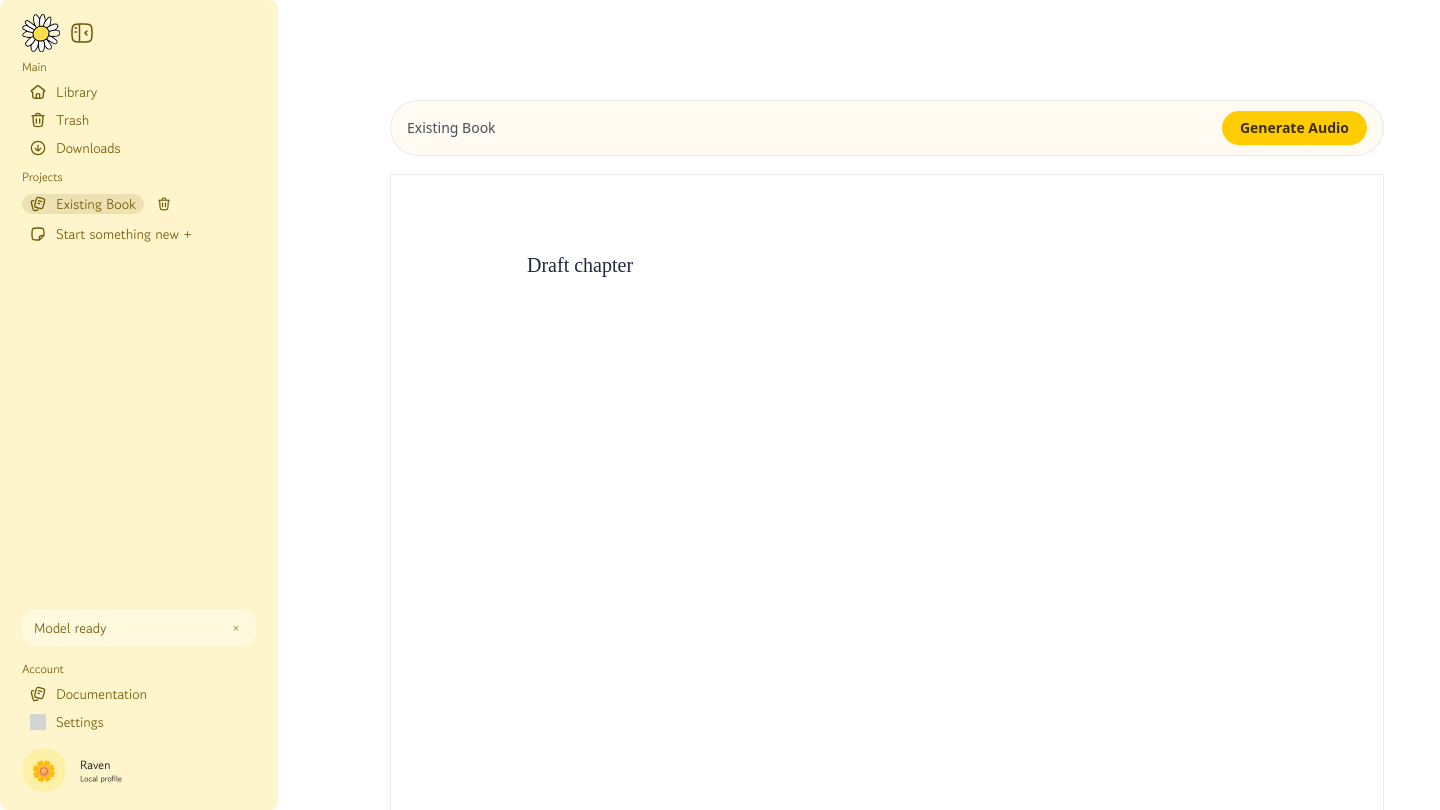
Test: Project manuscript workspace › starts a chapter render job with the active chapter payload only
The width and height of the screenshot is (1440, 810).
Click the button "Generate Audio" at (1294, 128), box [1222,111,1367,145]
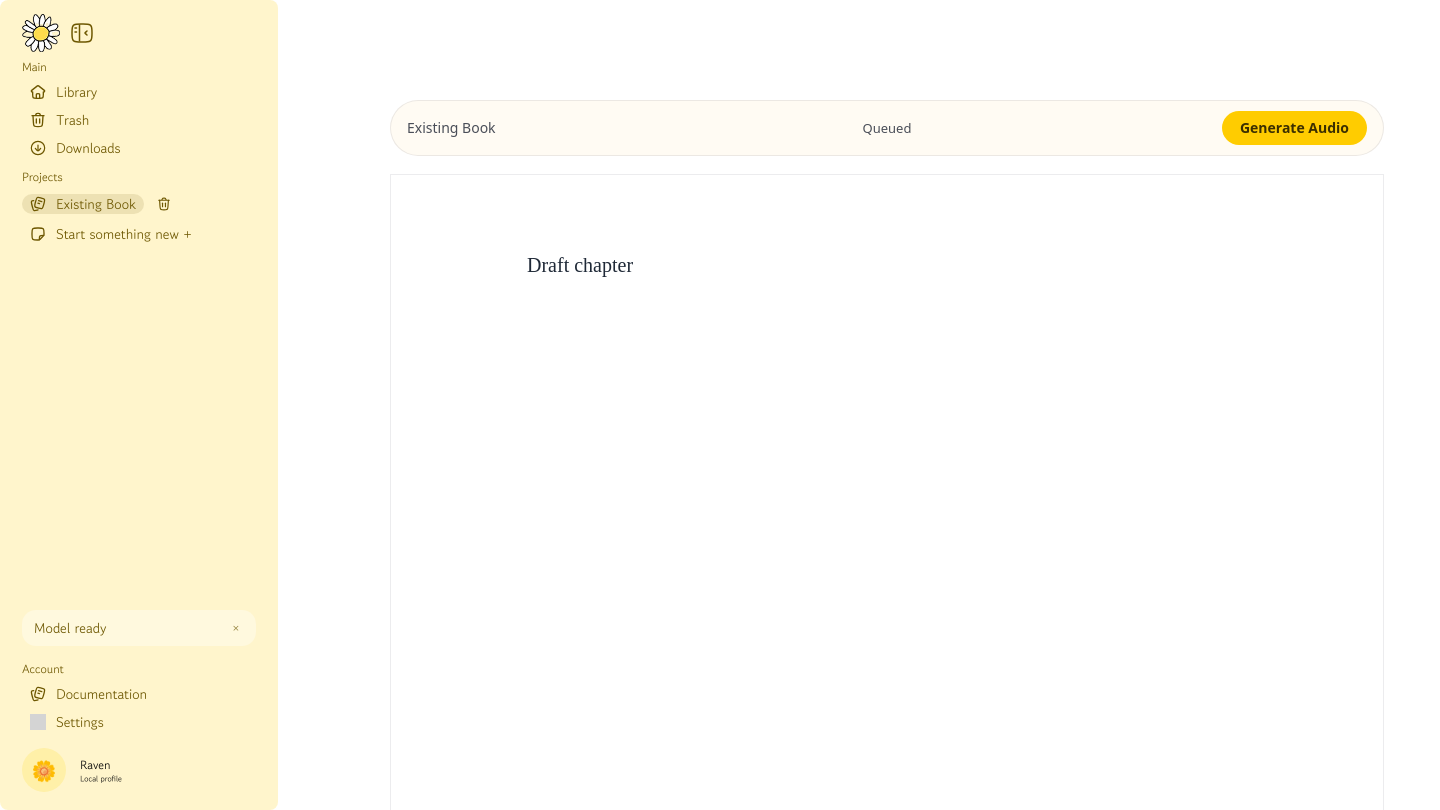
Now the text with test id "manuscript-render-status" reads "Queued", box [862,118,911,136]
